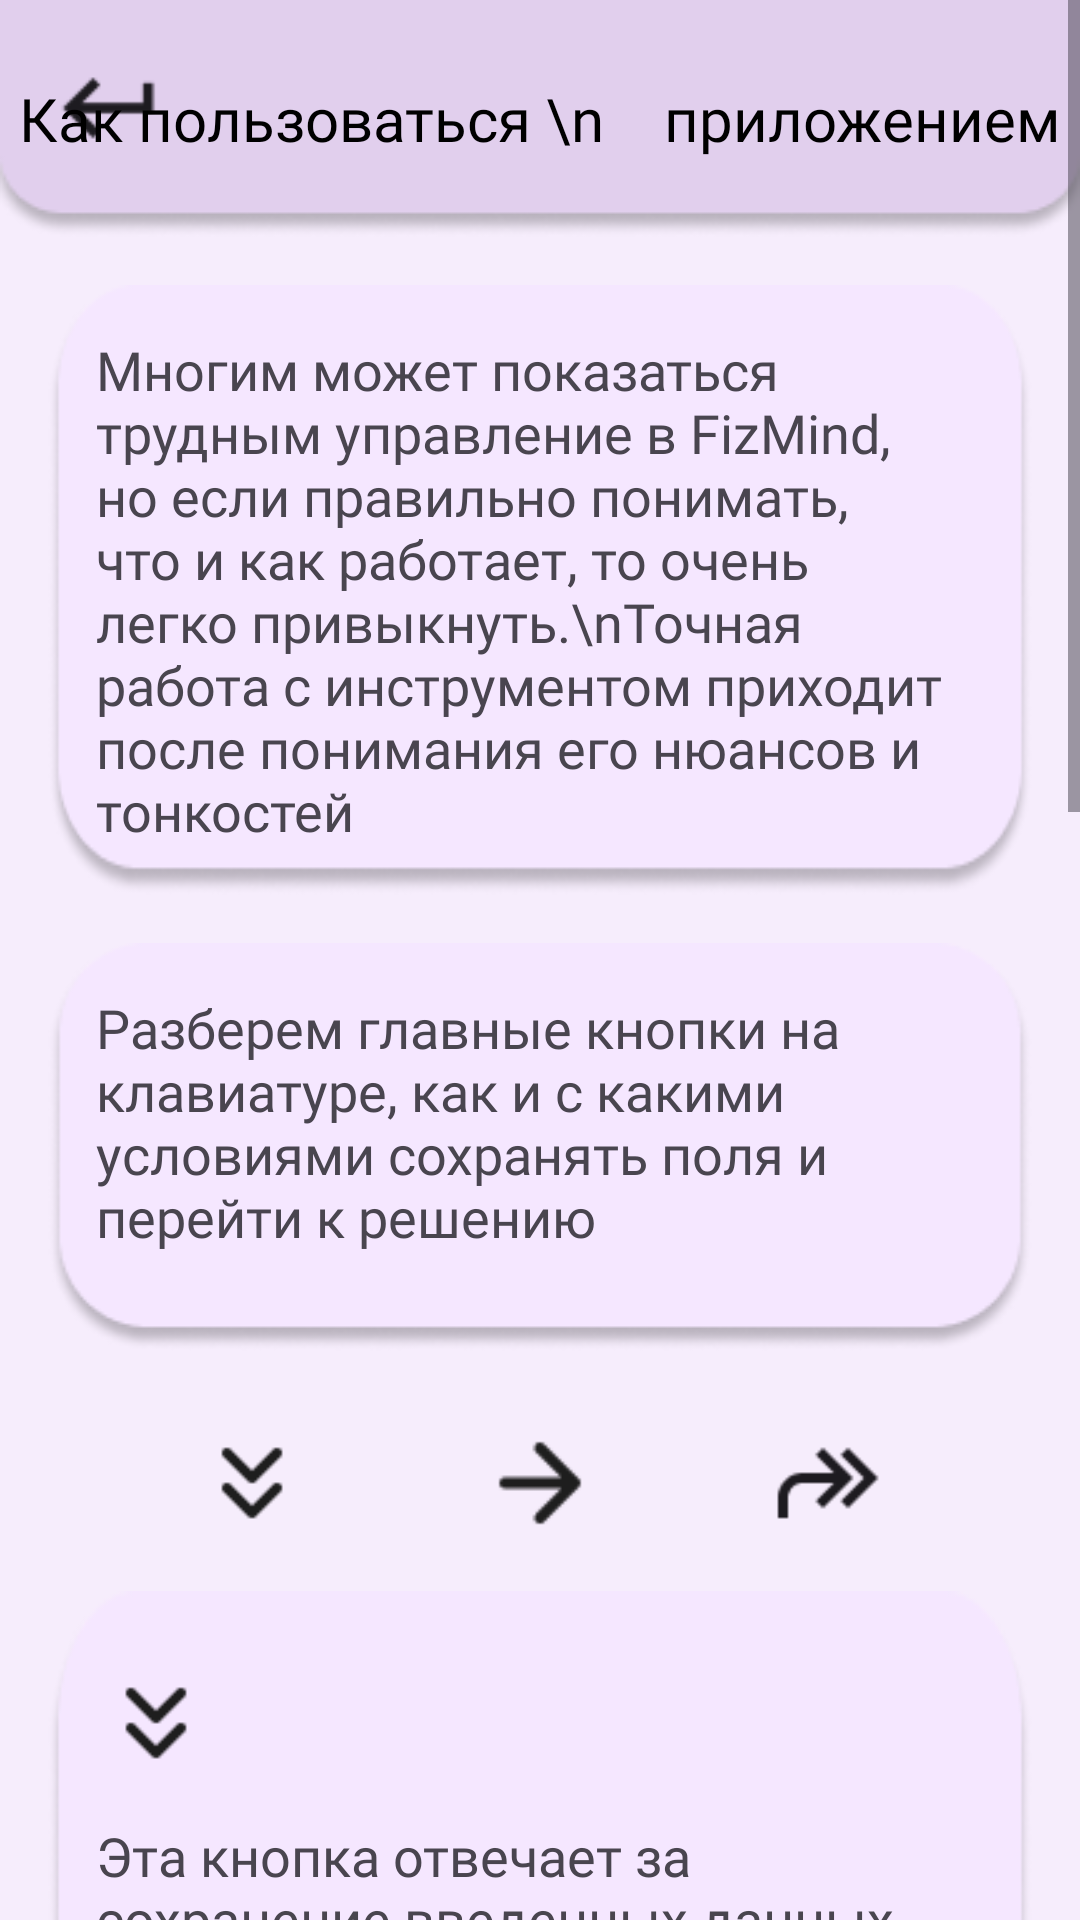

Icons on this 1080w x 1920h Android screen, each with its box as (x1, y1, x2, y2):
Вперед: (498, 1441, 582, 1525)
